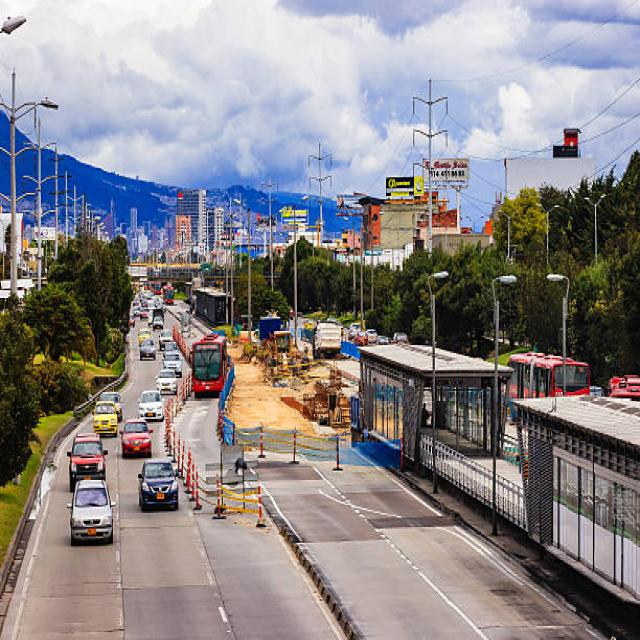Billboard_small: (426, 154, 470, 187), (382, 173, 422, 201)
Roadcorner: (378, 469, 624, 638), (251, 469, 374, 638), (6, 474, 57, 636), (270, 529, 345, 638), (283, 198, 316, 231)
Roadlane: (296, 455, 499, 638), (185, 514, 247, 631), (110, 537, 132, 638)
